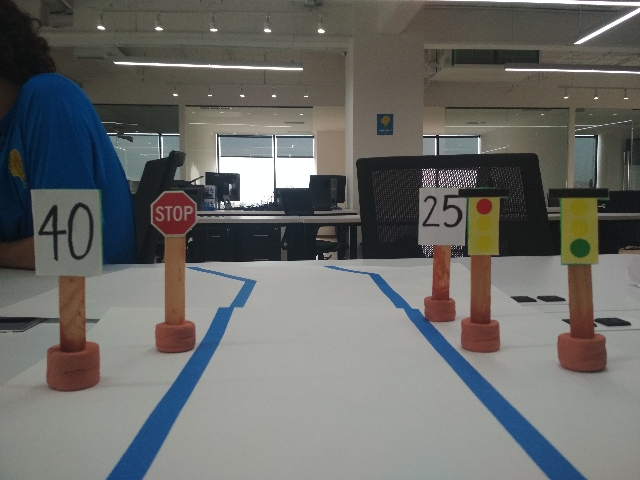Green Traffic Light: (545, 186, 610, 270)
Red Traffic Light: (458, 186, 513, 259)
Speed Limit 25: (416, 183, 467, 249)
Speed Limit 40: (26, 186, 107, 278)
Stop Sign: (146, 188, 199, 238)
